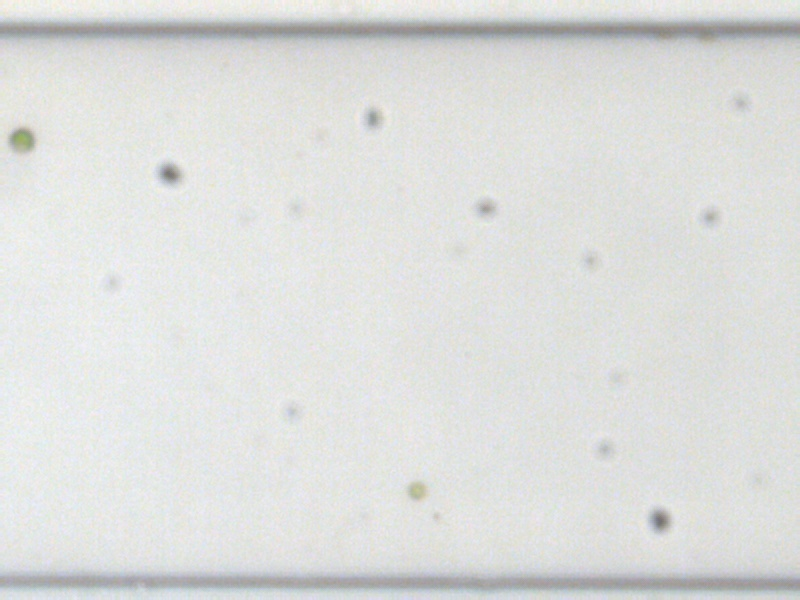Chlorella: (8, 127, 34, 152), (405, 480, 424, 499)
